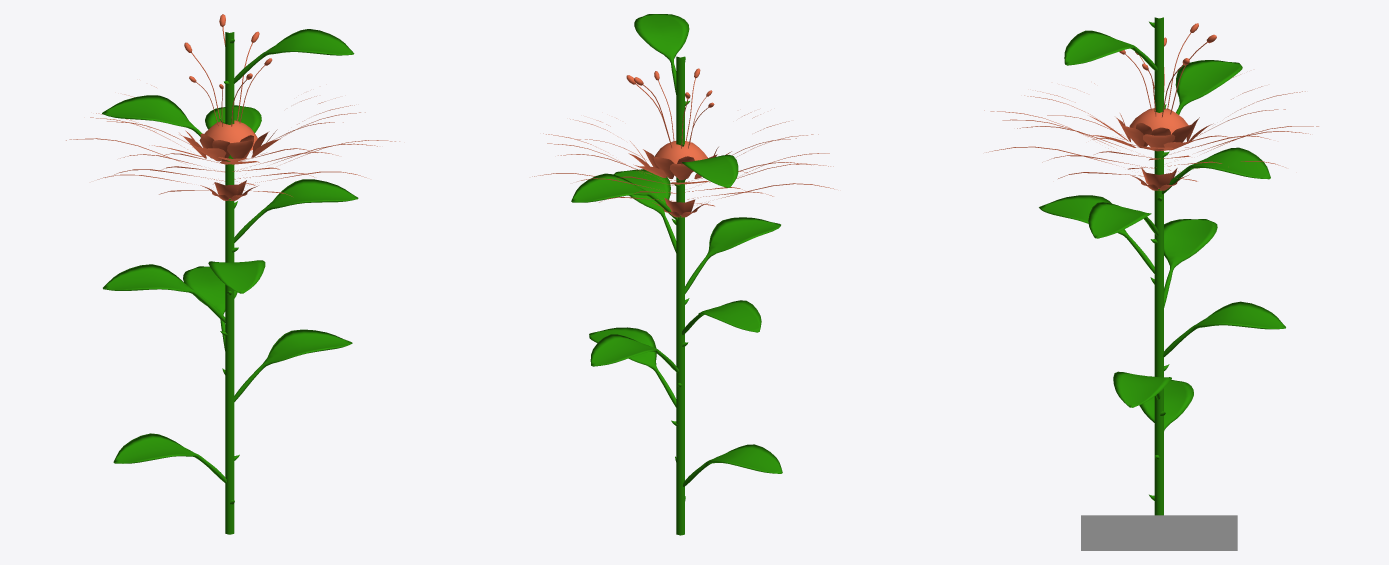
The model's file is flower.glb.
3 views of the same model, side by side, from view 1: azimuth 30°, elevation 25°; view 2: azimuth 150°, elevation 25°; view 3: azimuth 270°, elevation 25° (orthographic). The views are drawn at different scales.
Parts seen in each view (by area): view 1: tige, flower; view 2: tige, flower; view 3: tige, base, flower.
Boxes of the visible parts, box(x1,y1,x2,y2) form: tige: box(102, 29, 358, 534); flower: box(66, 14, 399, 200); tige: box(571, 14, 782, 535); flower: box(532, 68, 834, 217); tige: box(1039, 17, 1285, 515); base: box(1081, 515, 1237, 550); flower: box(984, 23, 1318, 190).
Size of the model in its own units: 0.803 by 1 by 0.794.
